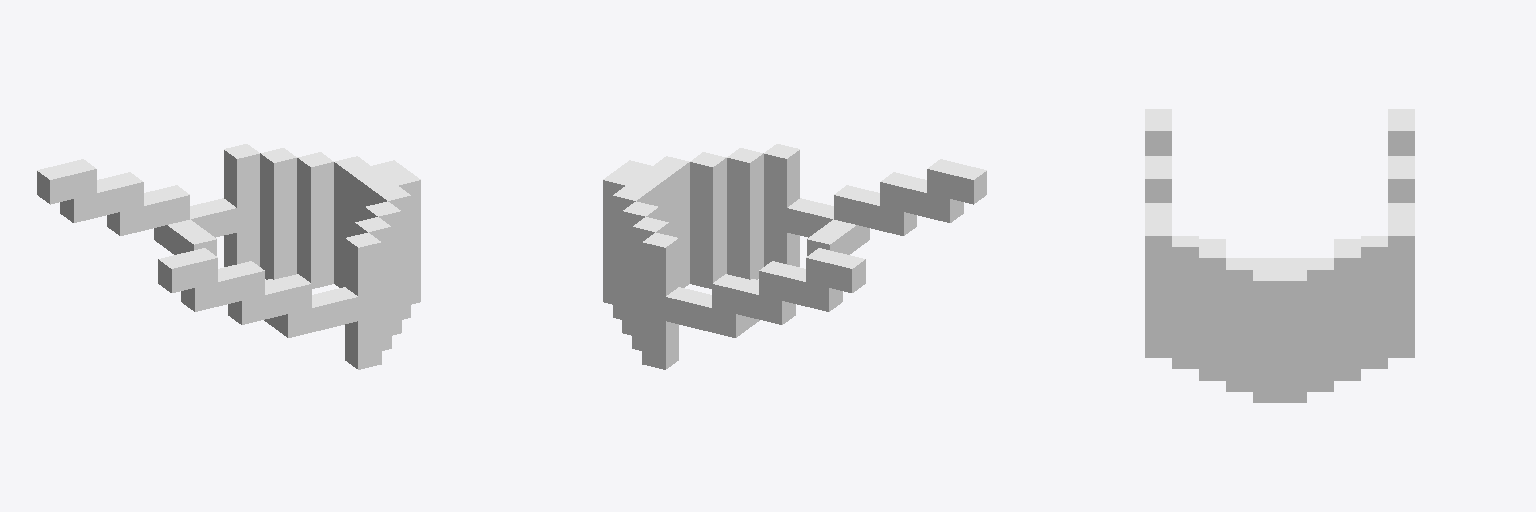
The model's file is Plough.obj.
The picture shows the model from 3 angles: view 1: azimuth 30°, elevation 25°; view 2: azimuth 150°, elevation 25°; view 3: azimuth 270°, elevation 25°; orthographic projection.
Size of the model in its own units: 13 by 6 by 10.